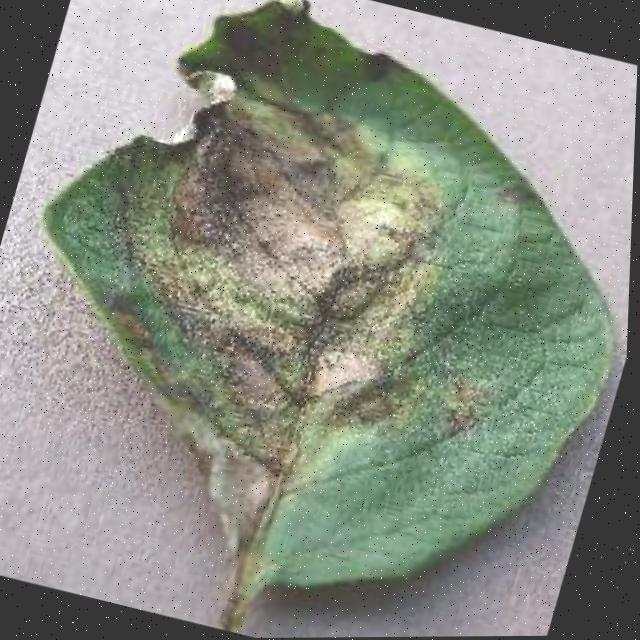Late_blight: (57, 48, 504, 594), (428, 358, 499, 448)
